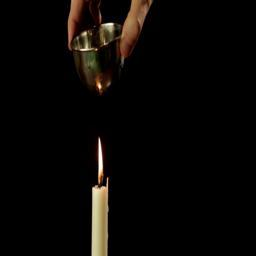fire: (98, 138, 104, 184)
